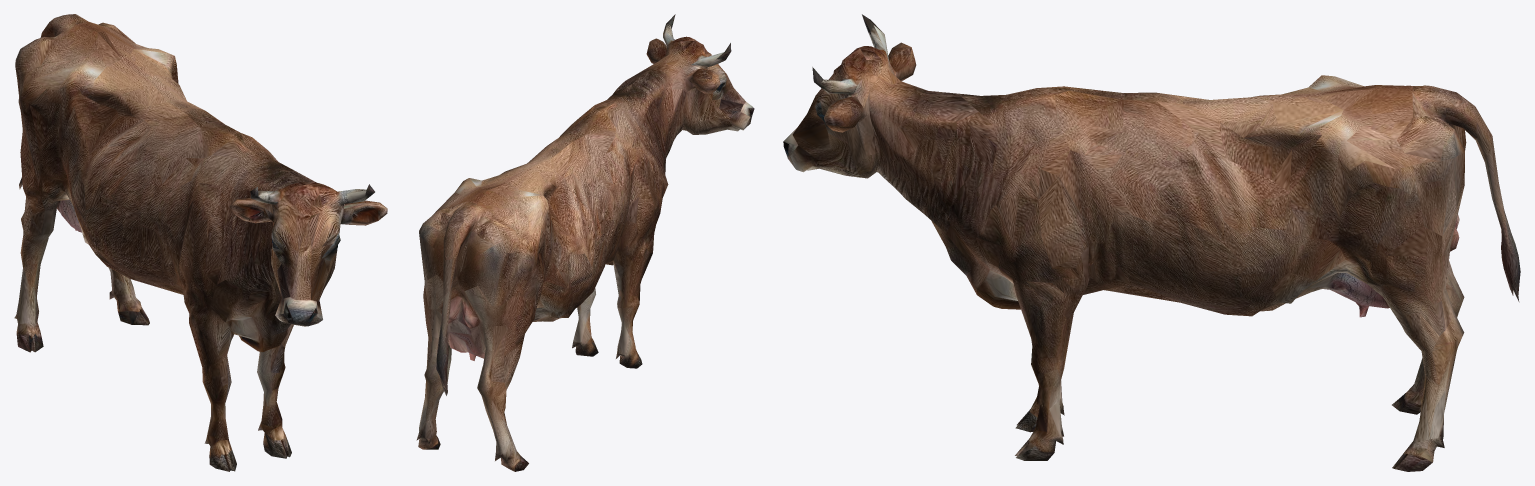
3 views of the same model, side by side, from view 1: azimuth 30°, elevation 25°; view 2: azimuth 150°, elevation 25°; view 3: azimuth 270°, elevation 25° (orthographic). The views are drawn at different scales.
Visible parts, largest first — view 1: ox; view 2: ox; view 3: ox.
Boxes of the visible parts, bbox=[...] form: ox: bbox=[14, 14, 387, 471]; ox: bbox=[416, 14, 754, 471]; ox: bbox=[783, 14, 1520, 471].
Bounding box in the file's own units: 0.6241 × 1.4 × 2.4.
1 material, 1 textured.
